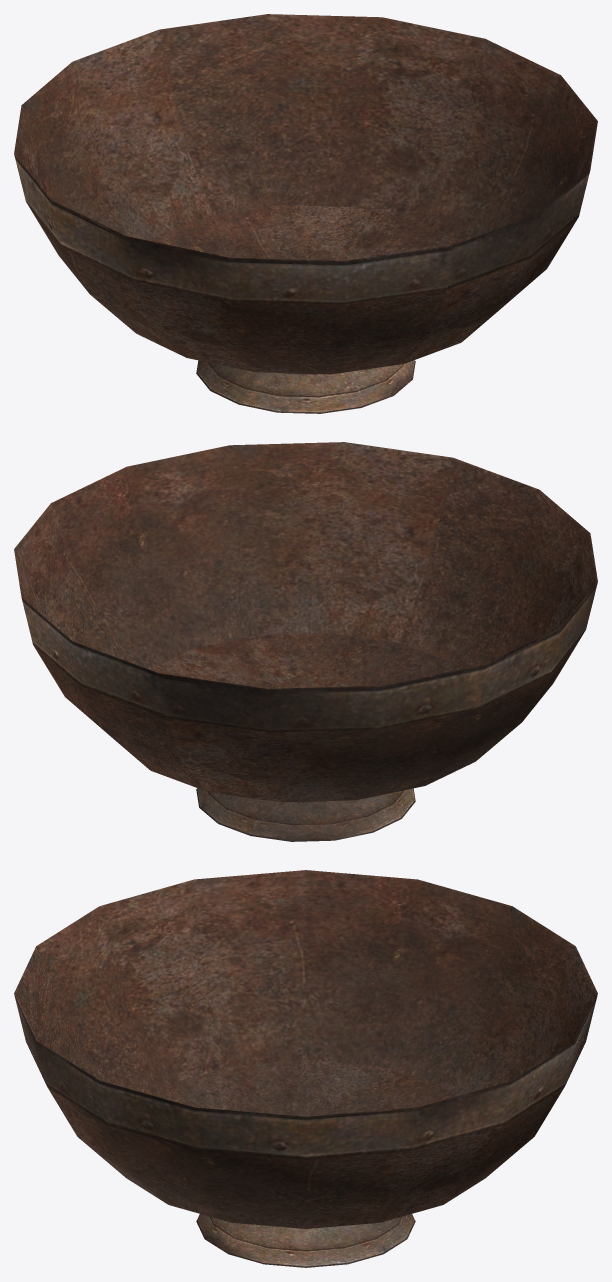
File: Bowl.fbx
3 renders of one model, top to bottom at view 1: azimuth 30°, elevation 25°; view 2: azimuth 150°, elevation 25°; view 3: azimuth 270°, elevation 25°, orthographic.
Visible parts, largest first — view 1: Mesh Object; view 2: Mesh Object; view 3: Mesh Object.
Boxes of the visible parts, x1=… form: Mesh Object: x1=14, y1=14, x2=597, y2=413; Mesh Object: x1=14, y1=442, x2=597, y2=841; Mesh Object: x1=14, y1=870, x2=597, y2=1267.
Size of the model in its own units: 1.52 by 0.6541 by 1.52.
